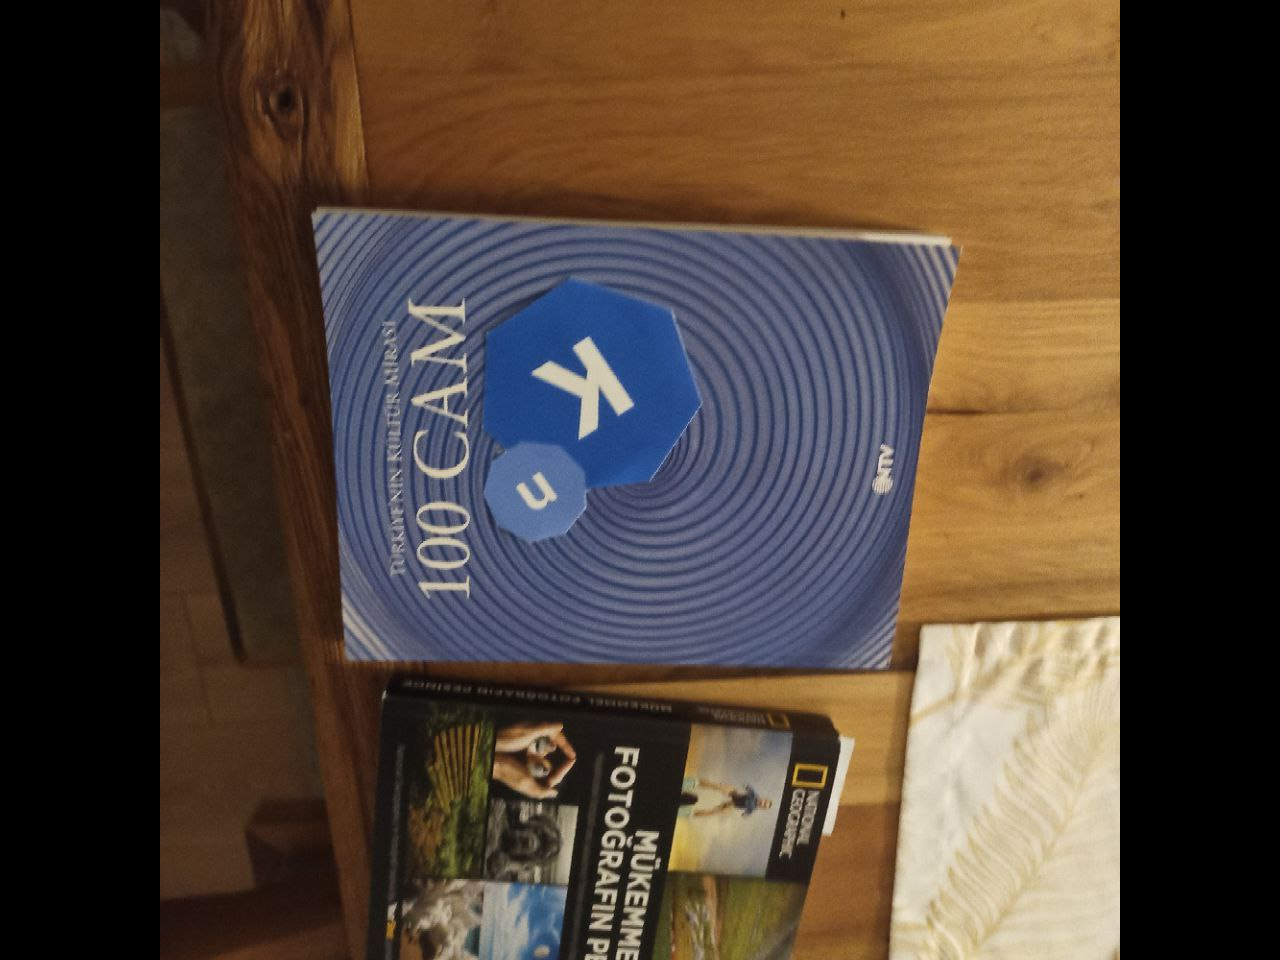knative: (483, 278, 703, 543)
